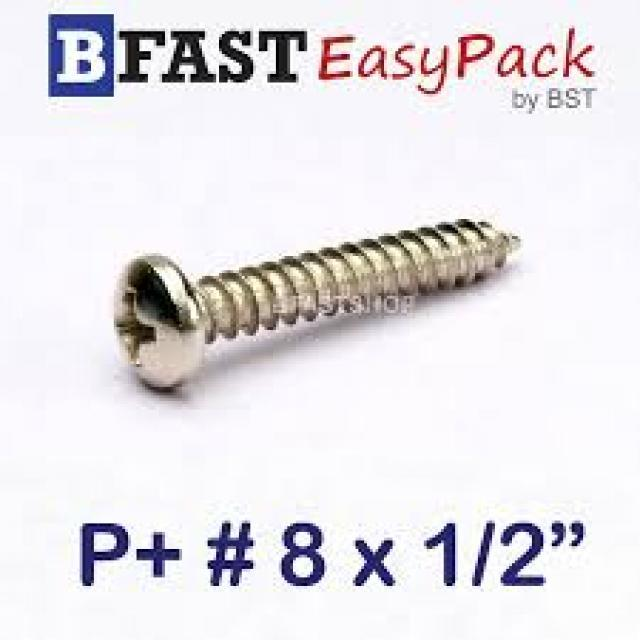Screw: (111, 219, 521, 393)
